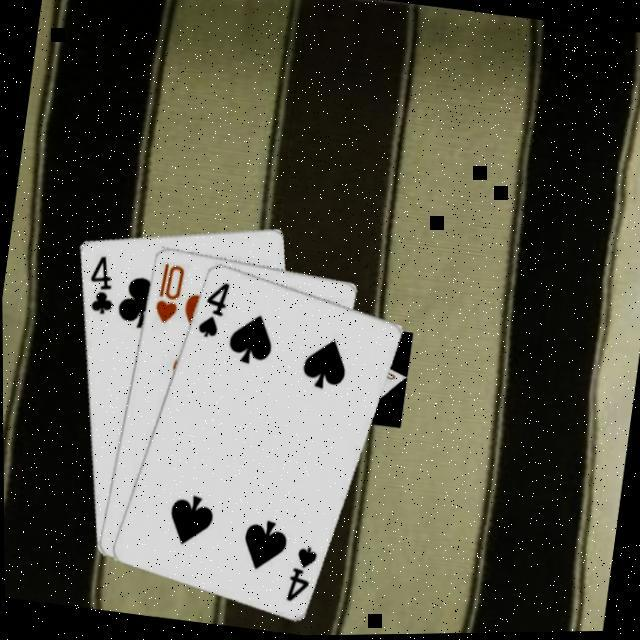10H: (150, 262, 188, 330)
4C: (82, 253, 124, 321)
4S: (194, 278, 234, 344), (282, 544, 322, 610)
